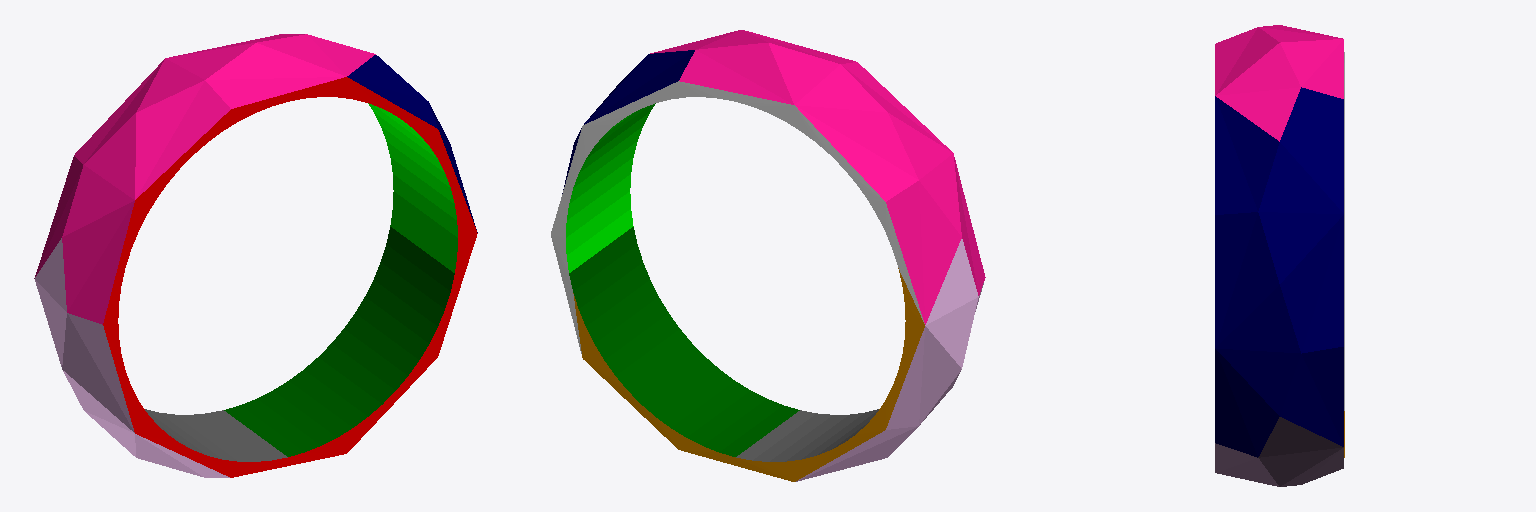
File: ring_segmented.obj
3 views of the same model, side by side, from view 1: azimuth 30°, elevation 25°; view 2: azimuth 150°, elevation 25°; view 3: azimuth 270°, elevation 25° (orthographic).
Bounding box in the file's own units: 0.0243 × 0.0248 × 0.0068.